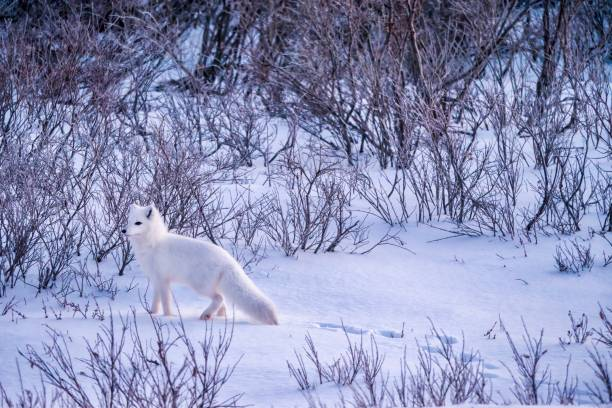arcticfox: (119, 201, 149, 246)
